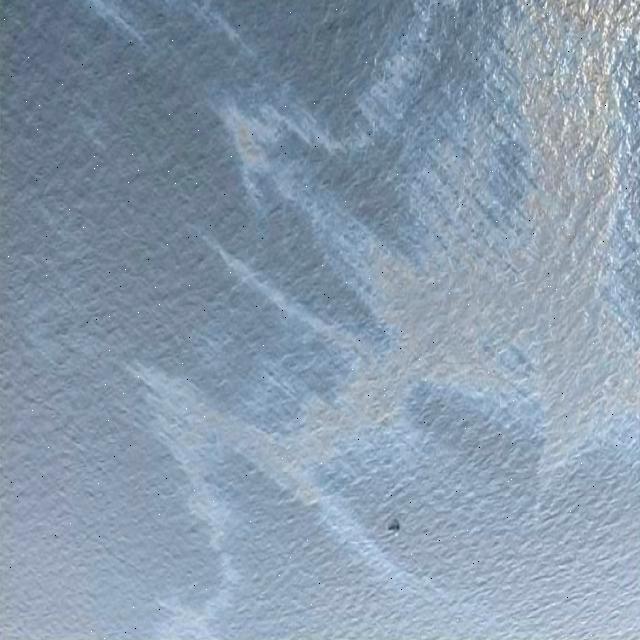oil: (113, 1, 640, 640)
